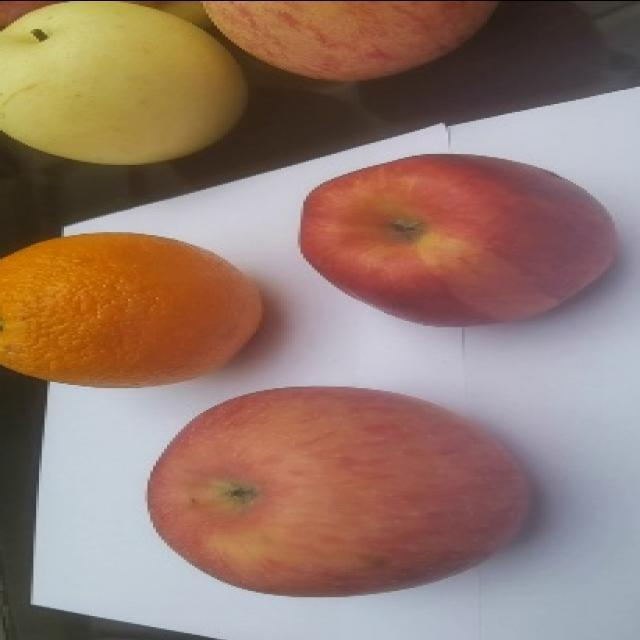Apple: (145, 384, 533, 598), (298, 152, 618, 327), (201, 0, 498, 83)
Orange: (0, 230, 263, 388)
